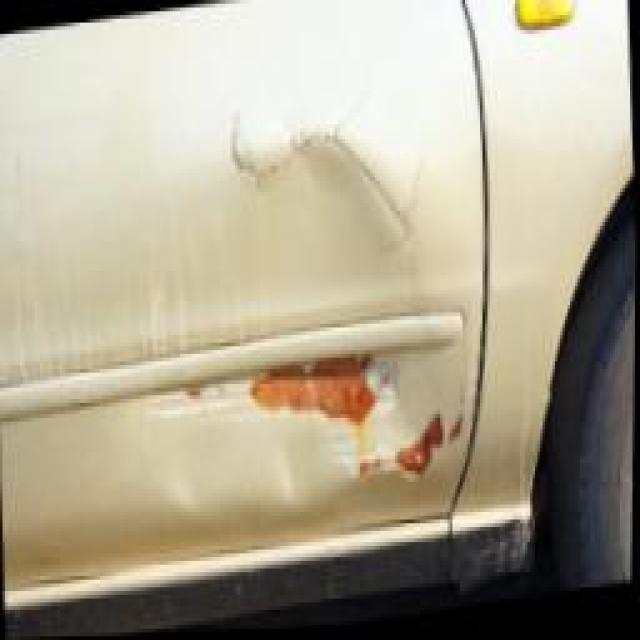Door: (162, 27, 481, 548)
